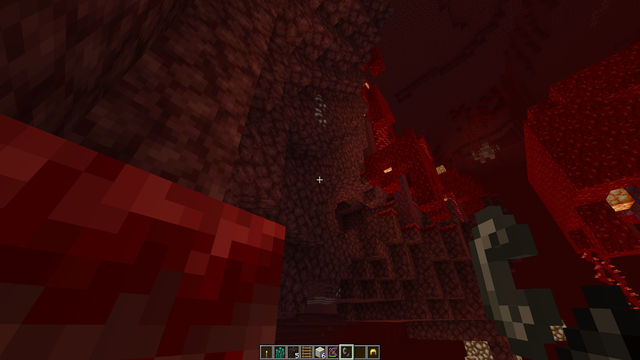quartz: (312, 88, 330, 130), (306, 294, 338, 310)
